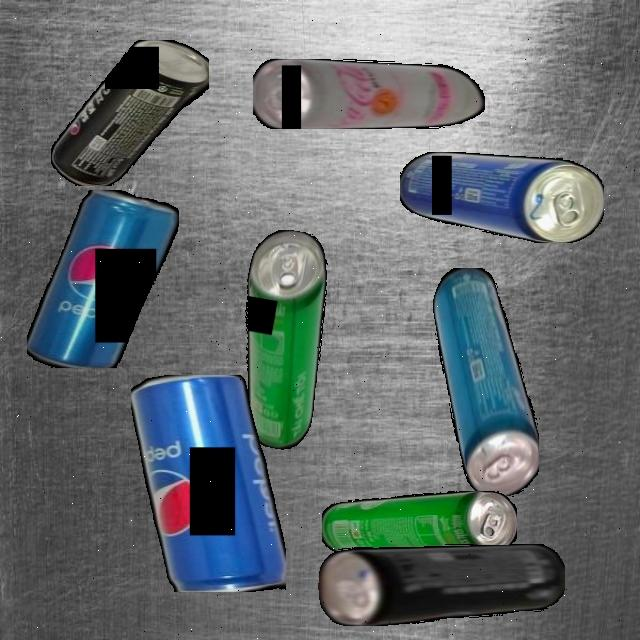debris: (131, 374, 286, 592), (220, 225, 343, 453), (27, 189, 179, 368), (432, 267, 539, 497), (51, 39, 209, 186), (318, 543, 565, 626), (399, 152, 604, 243), (253, 58, 485, 129), (321, 491, 517, 554)
